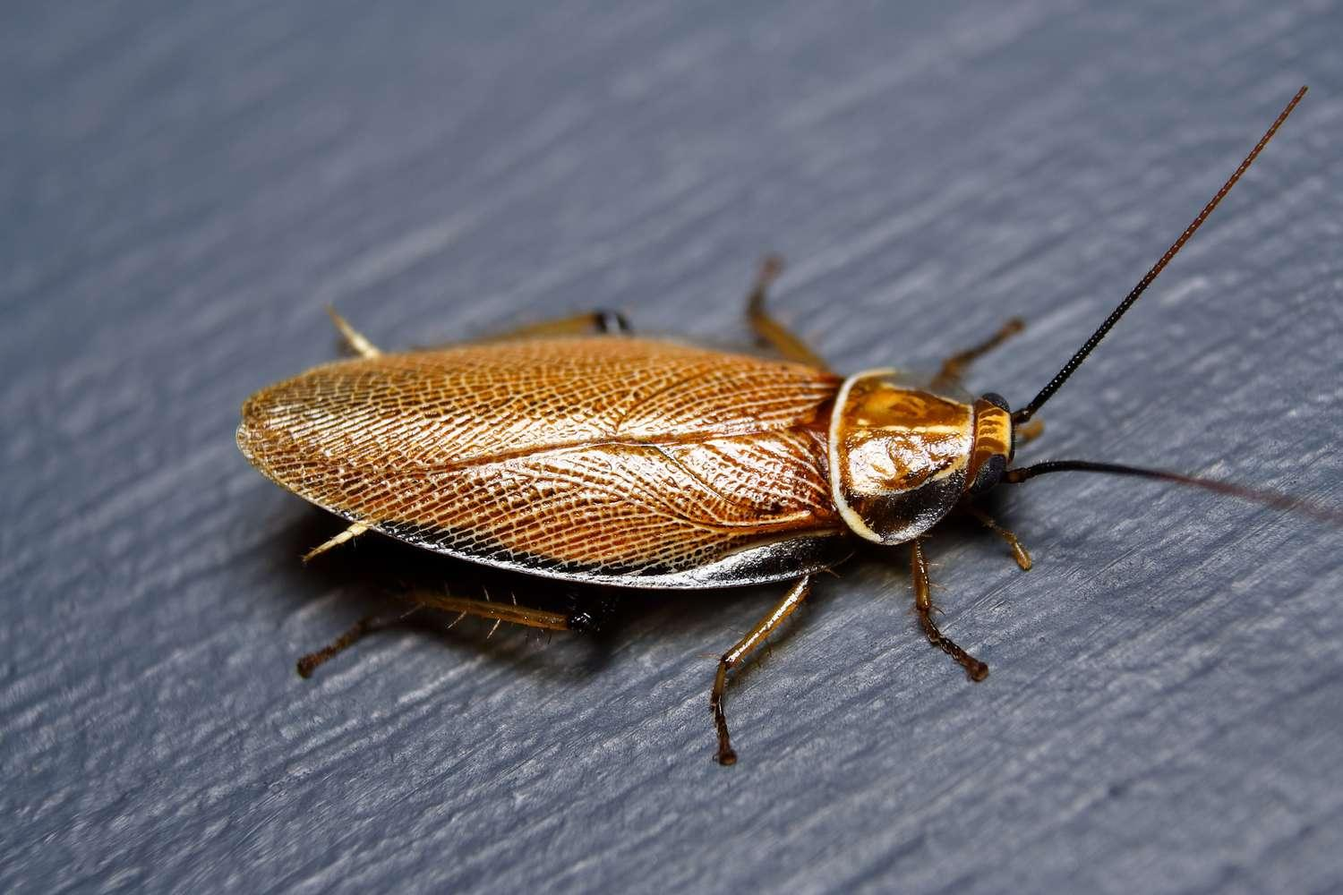cockroach: (230, 301, 1052, 653)
